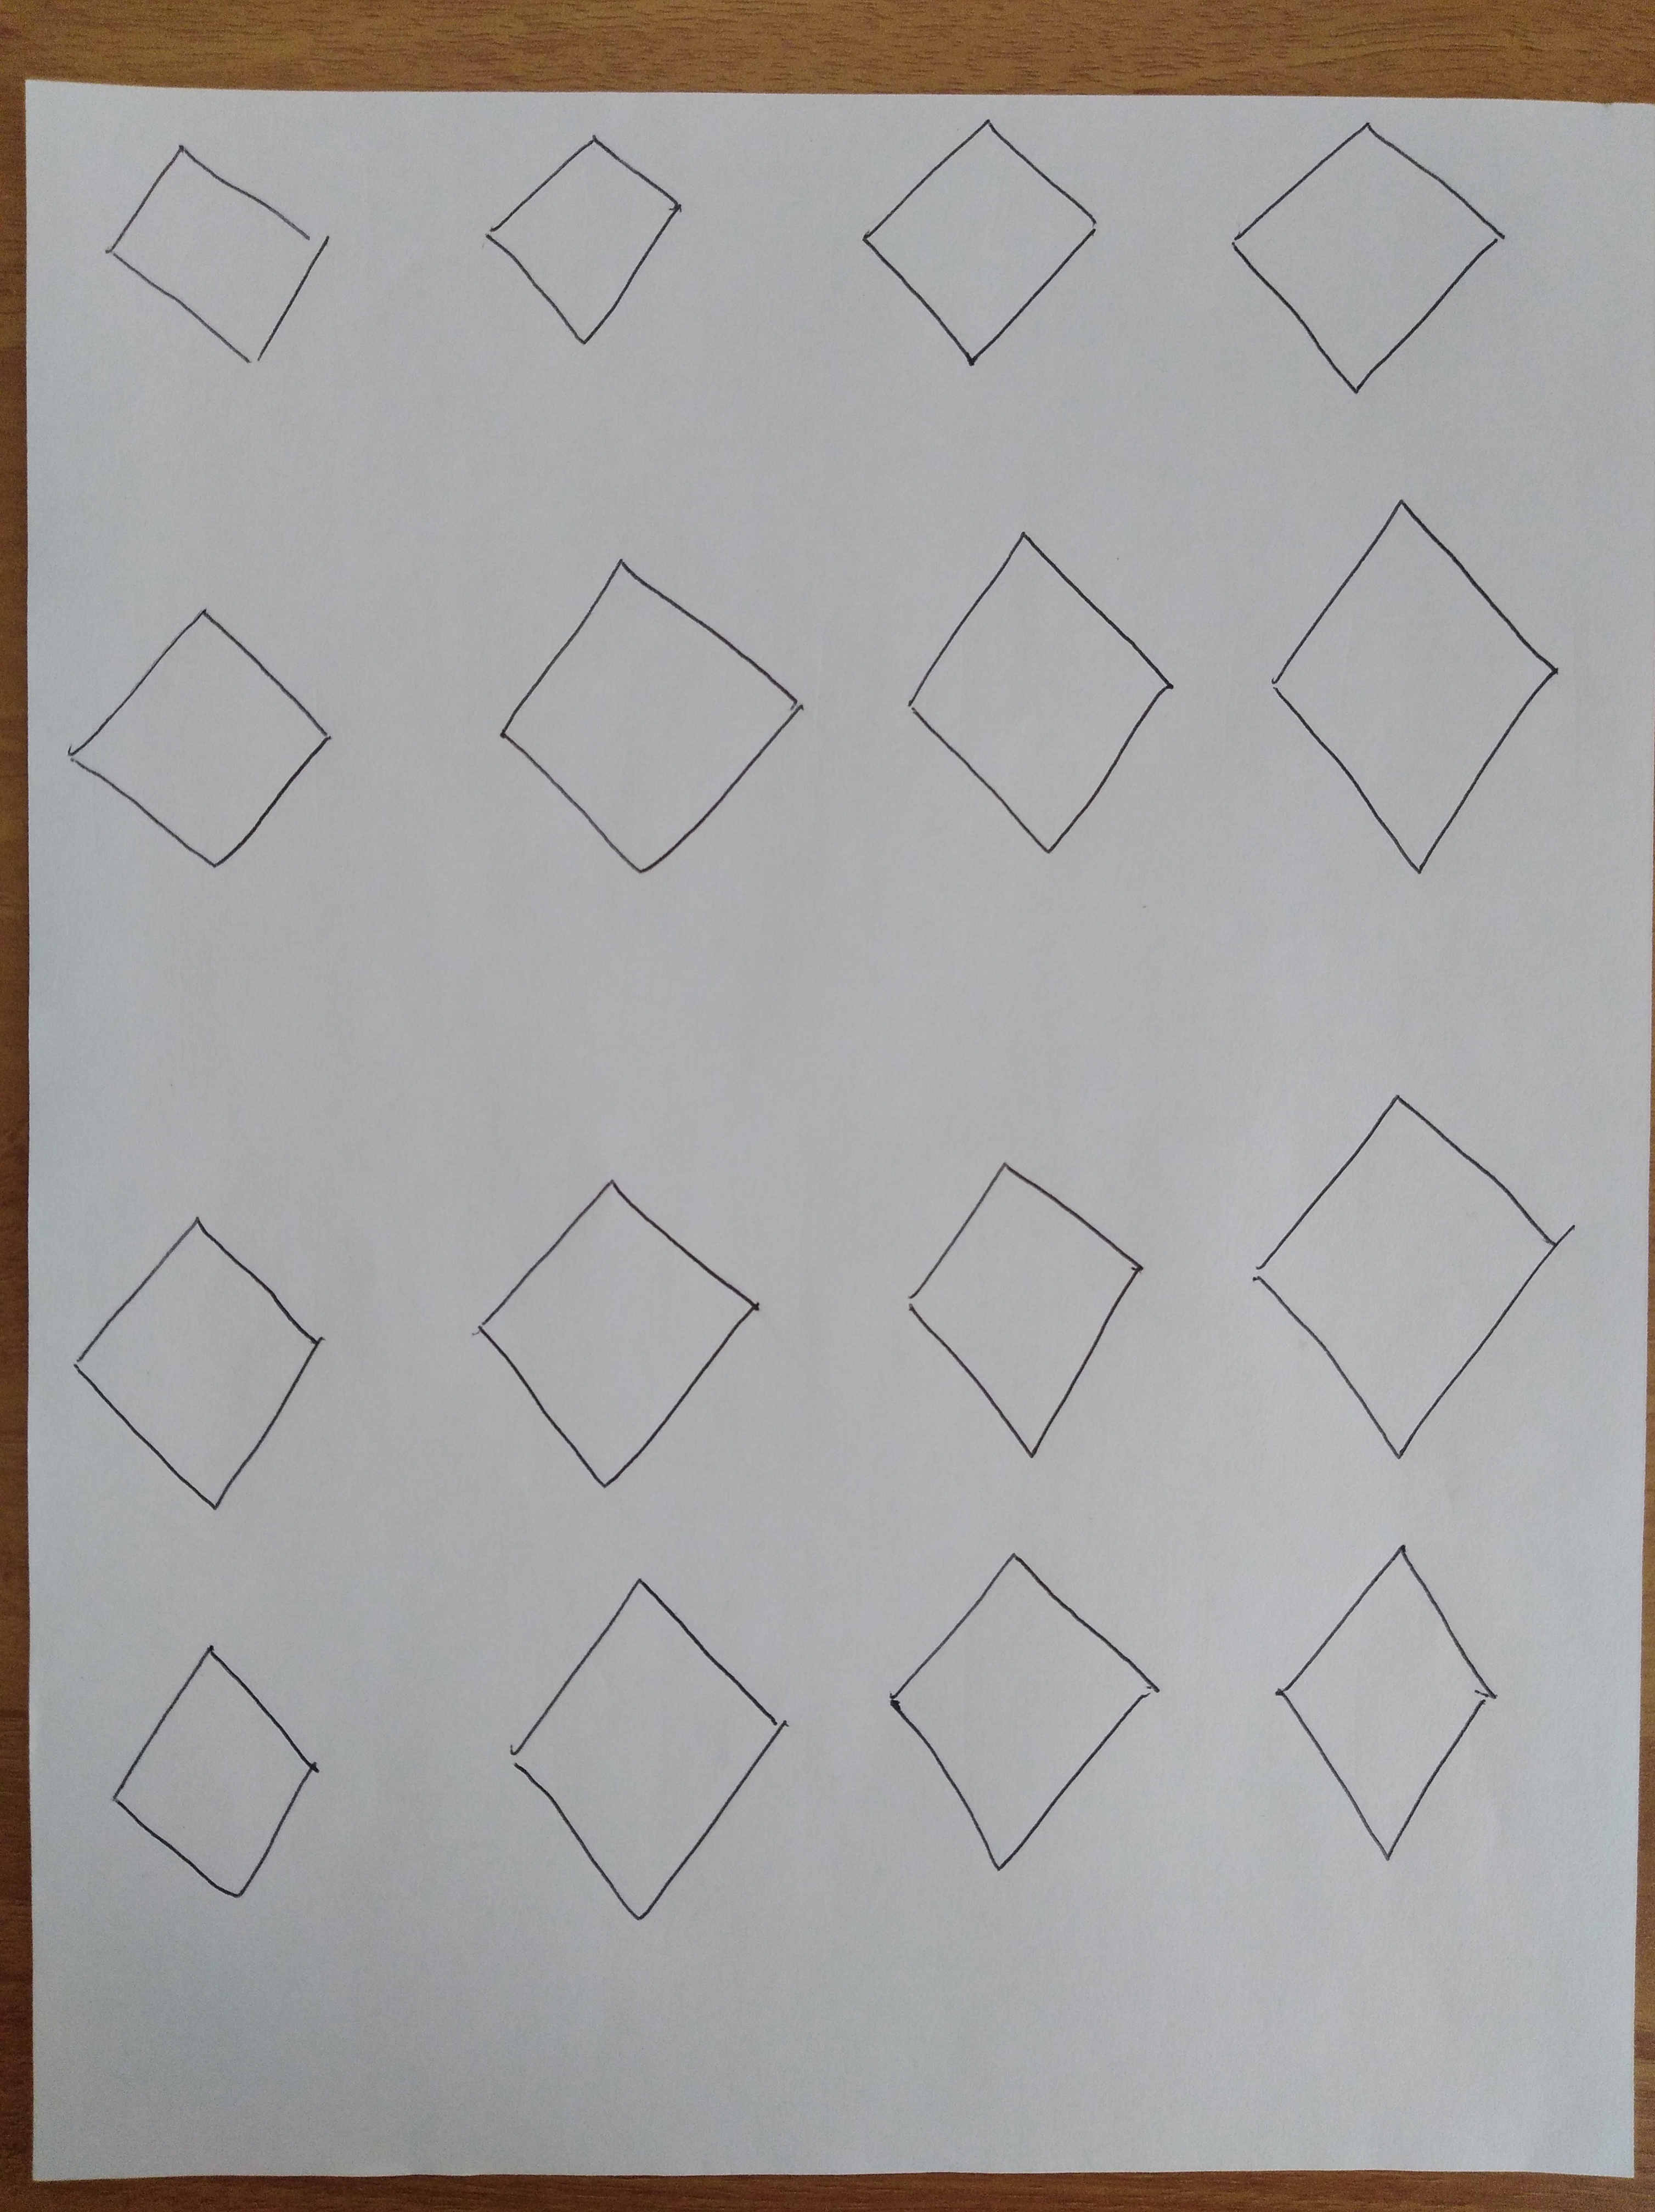decision: (1213, 1065, 1598, 1493), (1246, 474, 1591, 904), (482, 1552, 819, 1967), (438, 1140, 798, 1520), (473, 533, 833, 907), (887, 509, 1206, 897), (861, 1538, 1186, 1918), (874, 1136, 1161, 1500), (61, 1192, 356, 1534), (71, 1616, 369, 1946), (1257, 1527, 1516, 1901), (1213, 108, 1528, 414), (50, 586, 356, 890), (75, 118, 377, 382), (847, 108, 1123, 389), (462, 115, 709, 365)
